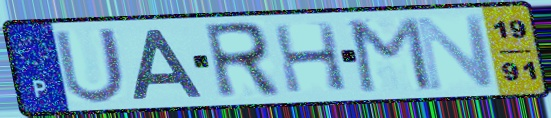A: (129, 26, 206, 102)
H: (269, 20, 351, 95)
M: (347, 14, 435, 95)
N: (412, 12, 499, 93)
R: (199, 19, 284, 102)
U: (50, 25, 130, 106)
